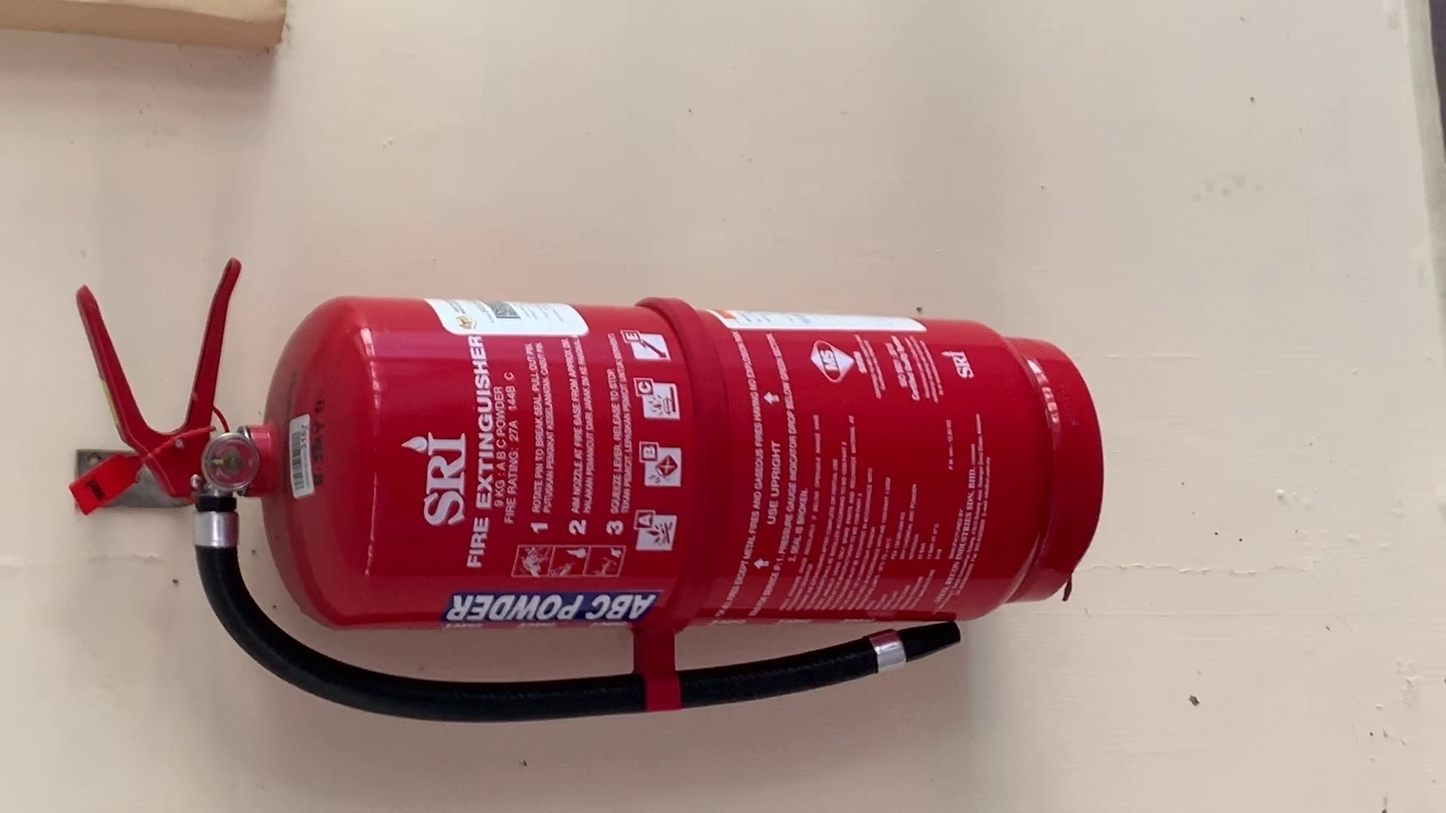fire_extinguisher: (70, 258, 1106, 721)
